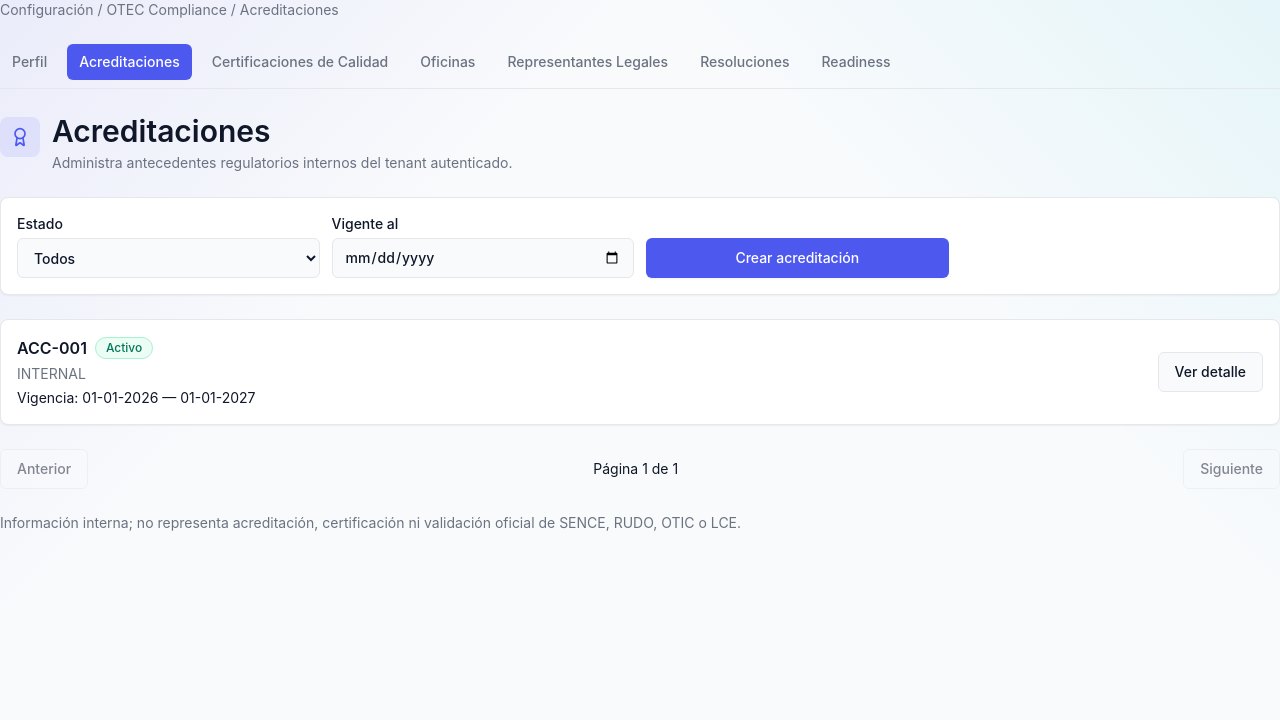
Test: OTEC regulatory pages › loads detail ETag and requires confirmation for a transition
Click the button "Ver detalle": (1210, 372) [1158,352,1263,392]
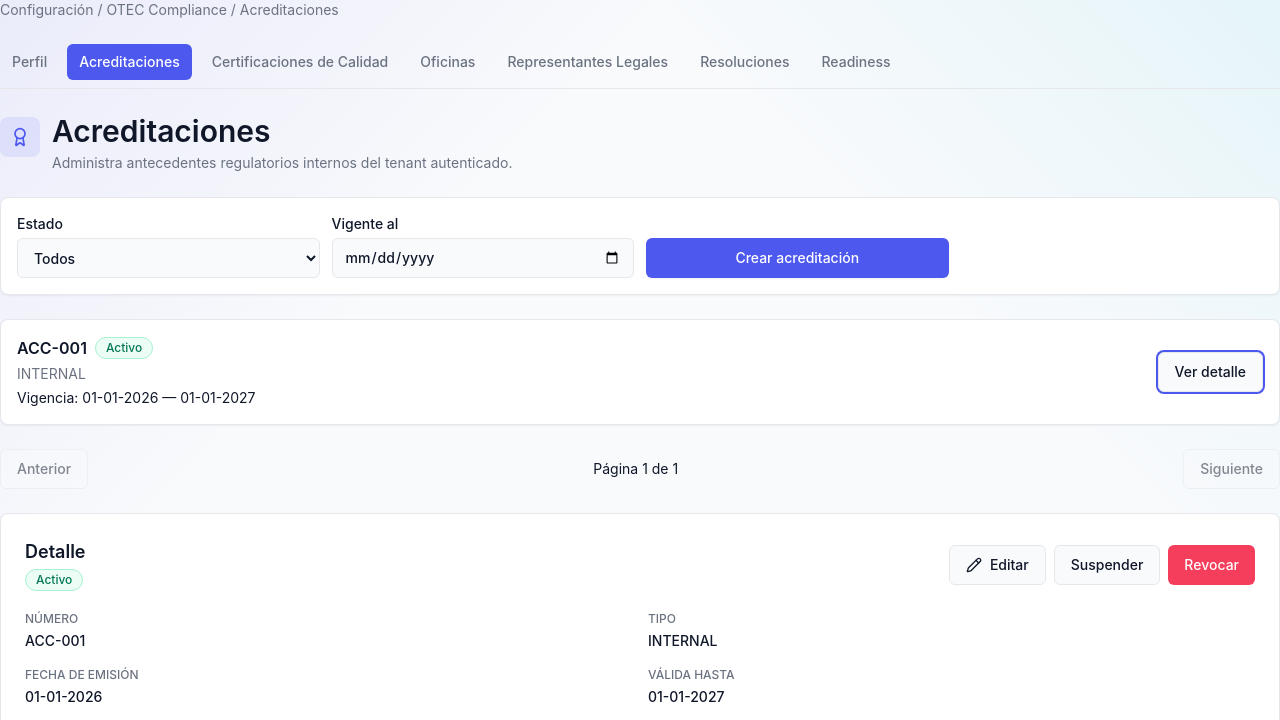
Click the button "Suspender": (1107, 564) [1054,544,1160,584]
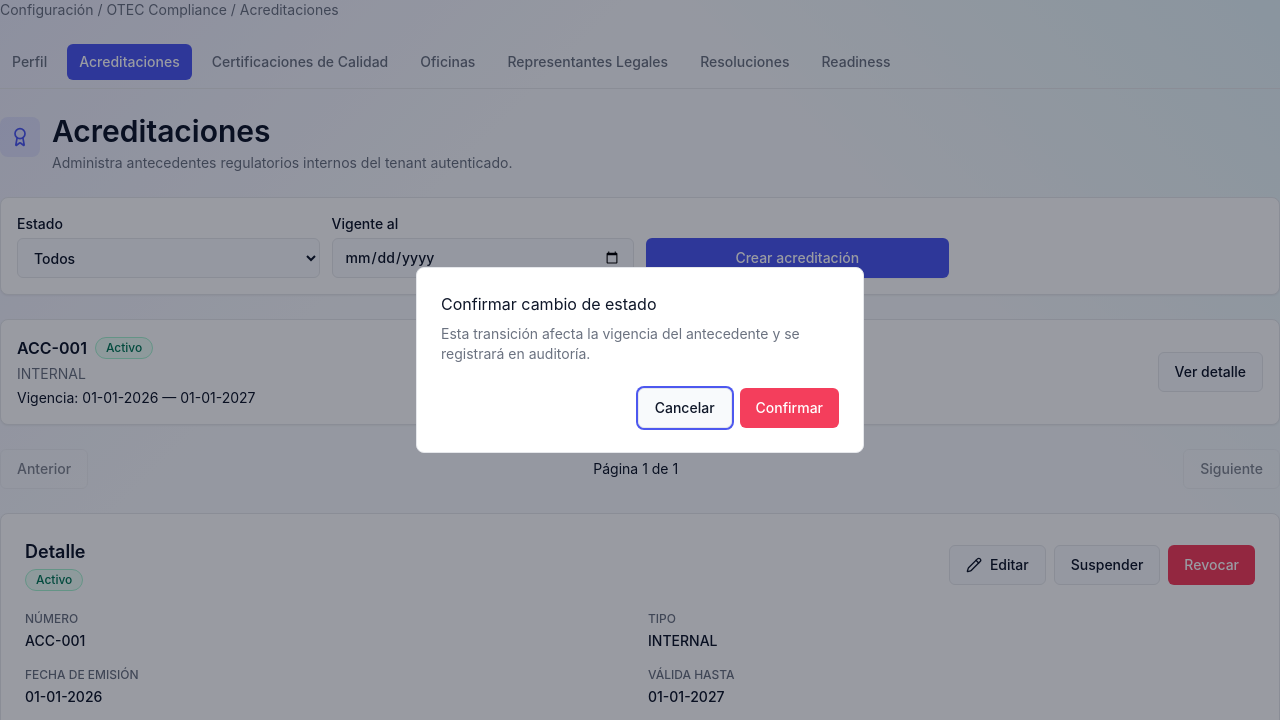
Check: the dialog shows "afecta la vigencia", box [441,325,800,362]
